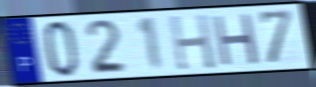0: (42, 19, 81, 79)
1: (136, 16, 163, 74)
2: (84, 18, 129, 76)
7: (259, 9, 296, 67)
H: (167, 12, 218, 72), (211, 11, 262, 69)
